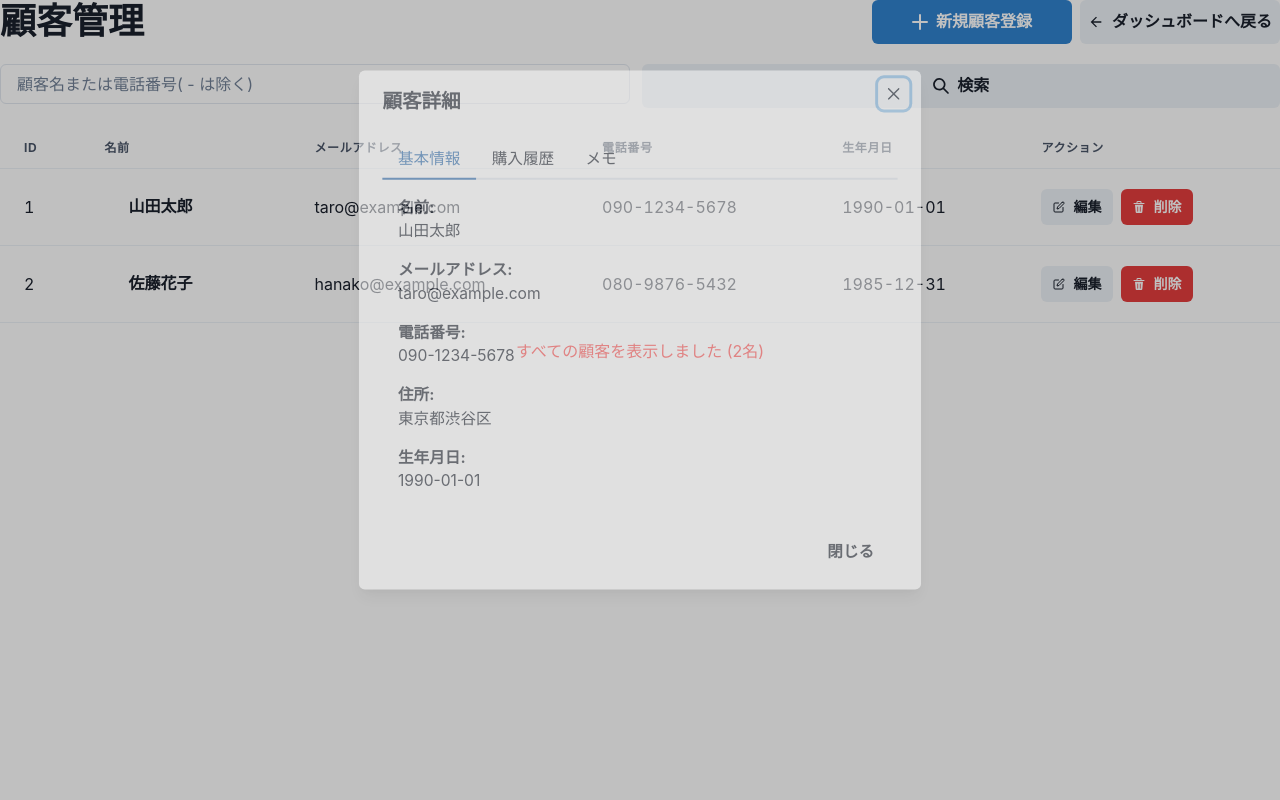
Test: CustomerManagementTemplate コンポーネント › 購入履歴のレンダリングが正しく動作する
This screenshot has width=1280, height=800.
Expected: the text "顧客詳細" is shown, [382,89,460,112]
What coordinates should you click on to do the following:
click the tab "購入履歴"
I would click on:
 (523, 159)
Its box is [476,139,570,180].
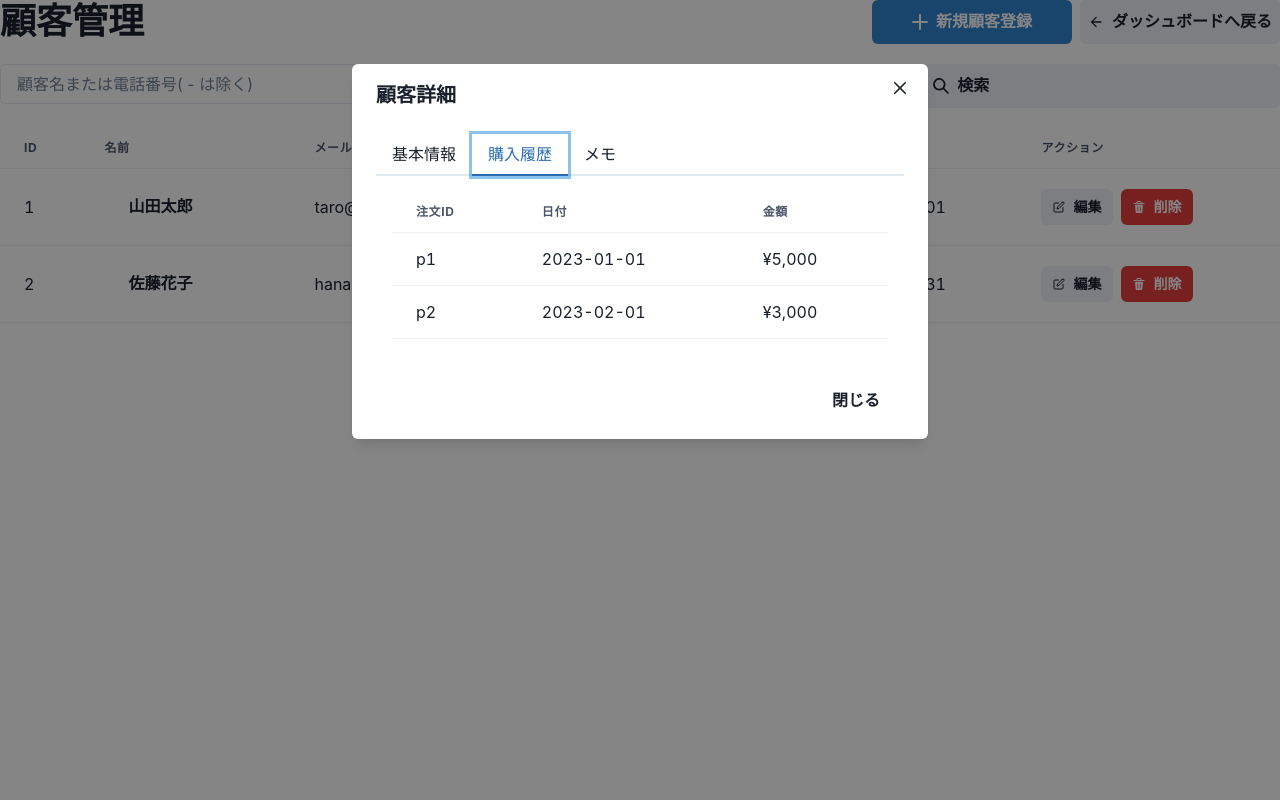
Now the cell "¥5,000" is shown, box [739,232,888,286]
Now the cell "¥3,000" is shown, box [739,286,888,338]
